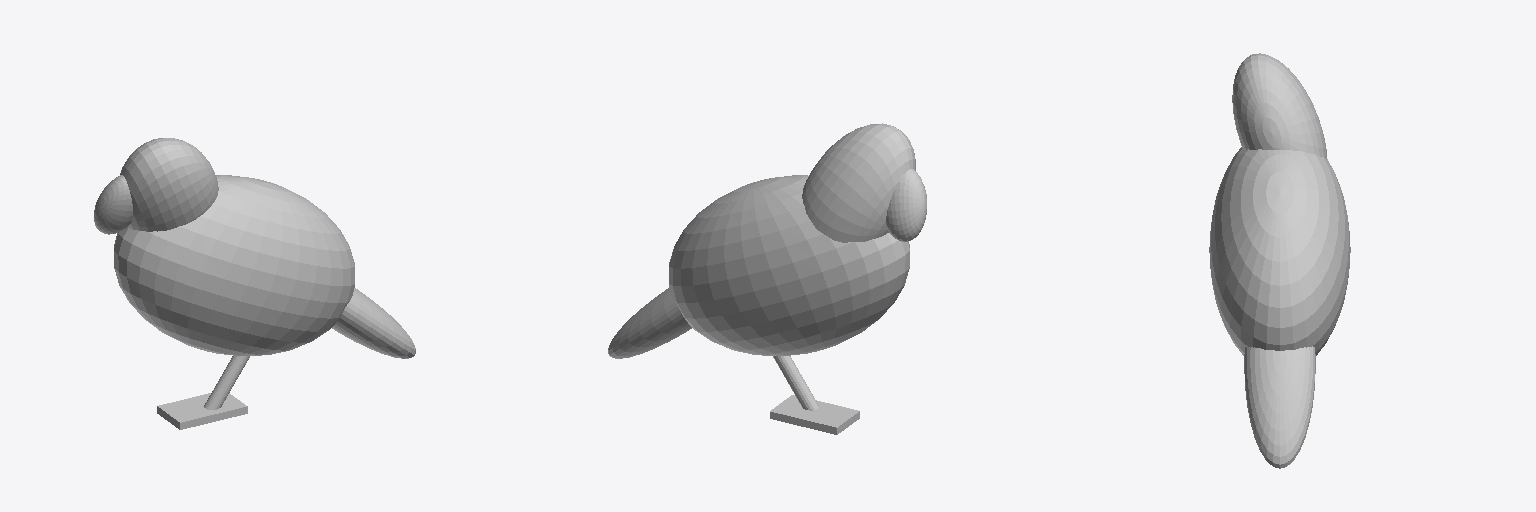
File: Pigeon_Billy.obj
3 views of the same model, side by side, from view 1: azimuth 30°, elevation 25°; view 2: azimuth 150°, elevation 25°; view 3: azimuth 270°, elevation 25° (orthographic).
Visible parts, largest first — view 1: Sphere001; view 2: Sphere001; view 3: Sphere001.
Part boxes in pixels (bbox=[...]): Sphere001: bbox=[94, 138, 415, 429]; Sphere001: bbox=[608, 123, 926, 434]; Sphere001: bbox=[1209, 53, 1350, 468].
Bounding box in the file's own units: 1.27 × 1.13 × 0.4916.